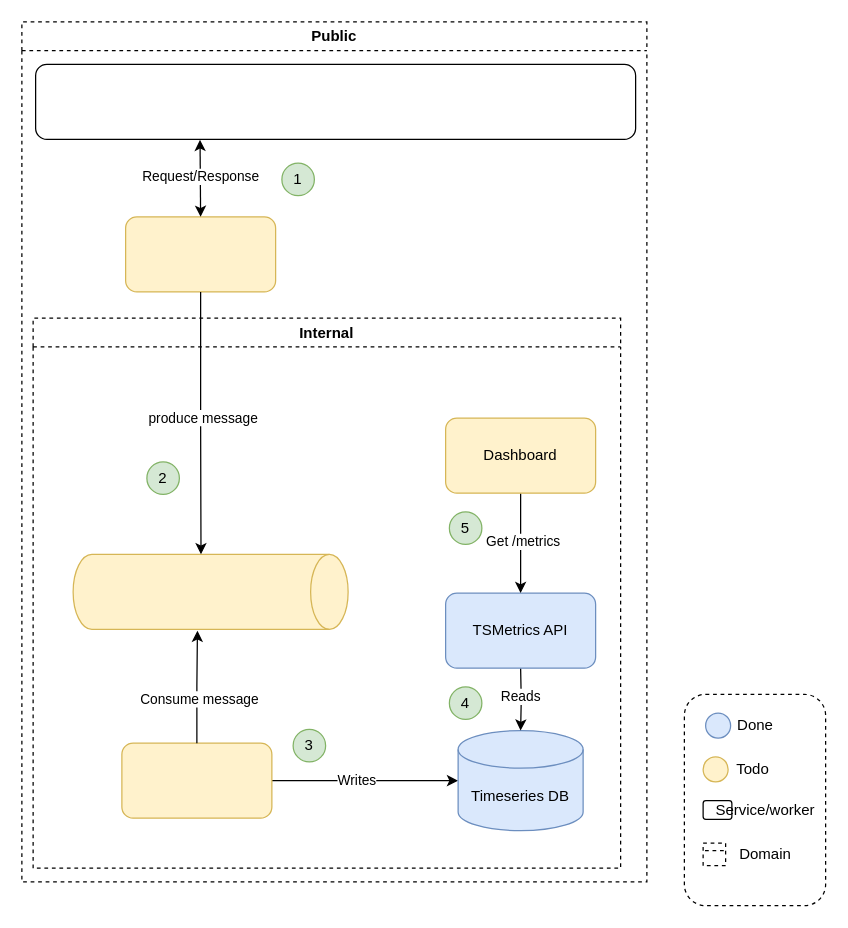
Image size: 848x928. Some labels were removed from this diagram. The shapes that lost their labels are listed below. From the top down, each one's centre as x and y in pixels, then its label:
point 335,101: Client
point 200,254: Web Application
point 210,591: message queue
point 196,780: Consumer
